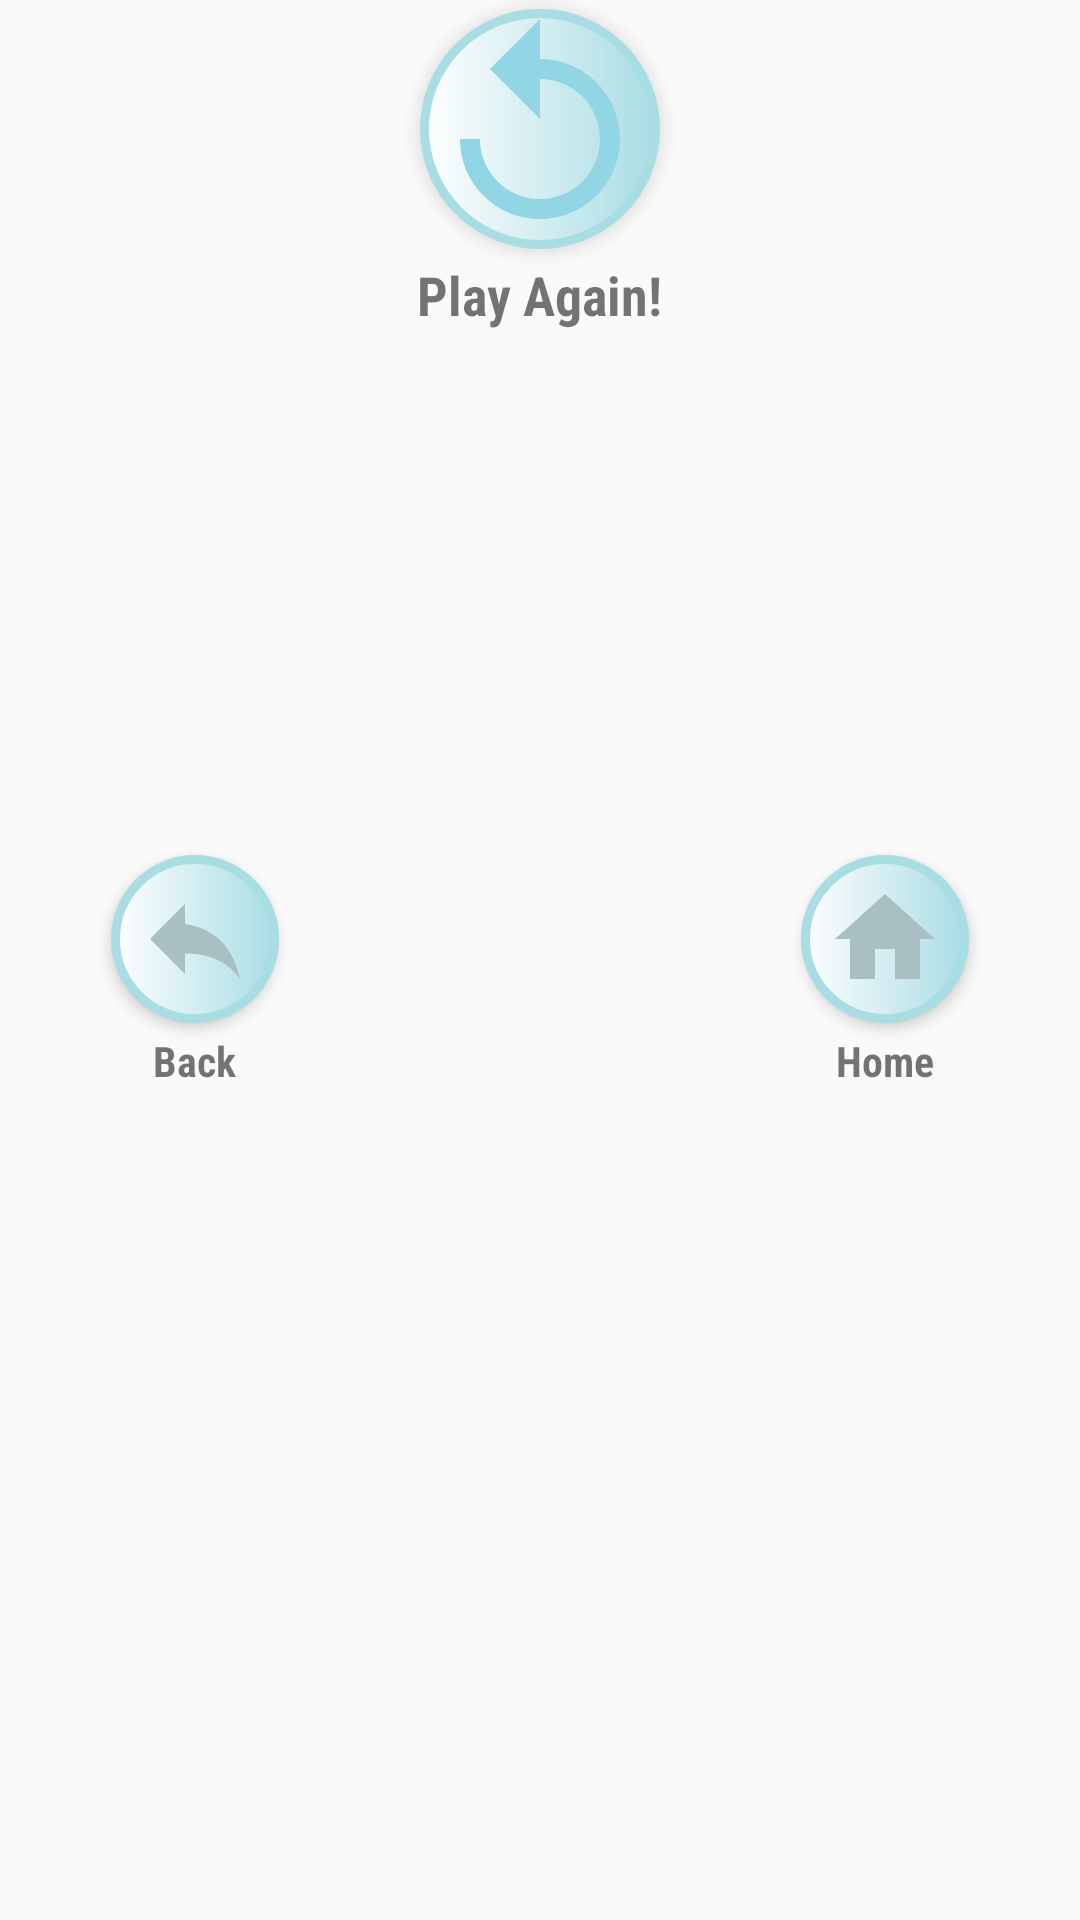

Screen size 1080×1920. Icon name, then its center in pixels as (x=x, y=y):
reply: (x=195, y=939)
